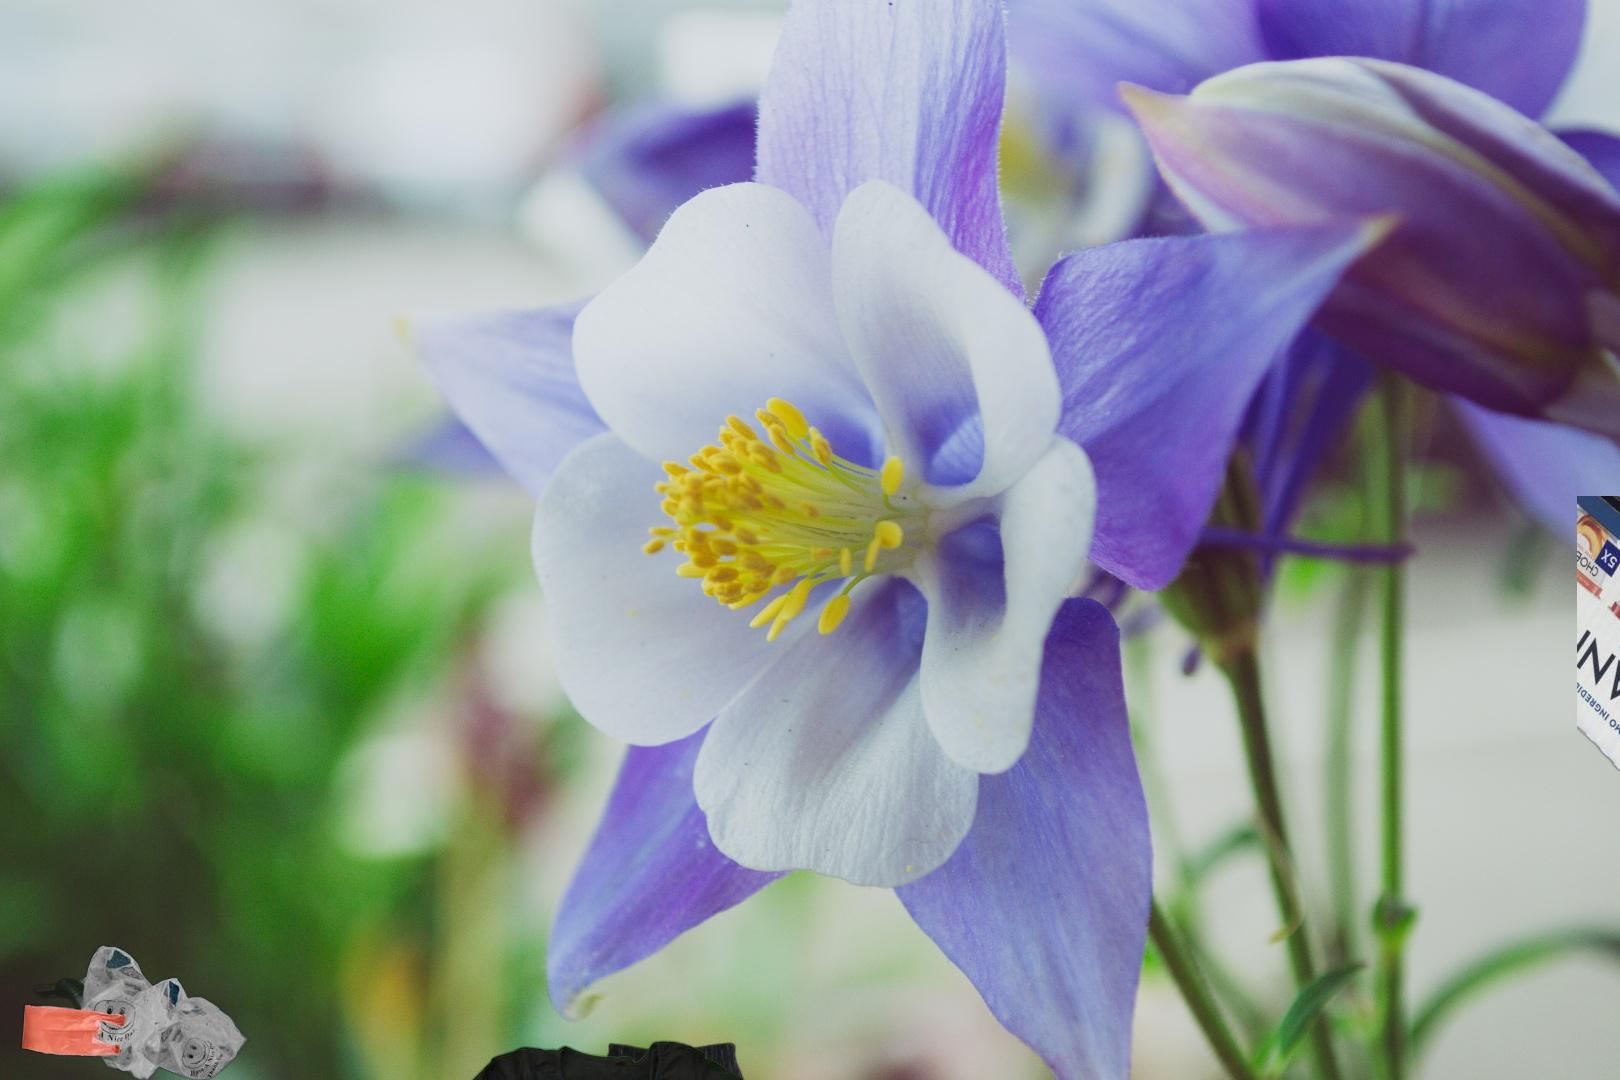clothes: (419, 1037, 803, 1080), (466, 1039, 853, 1080)
plastic-bag: (20, 943, 254, 1080)
trashbox-cardboard: (1577, 495, 1620, 880)
